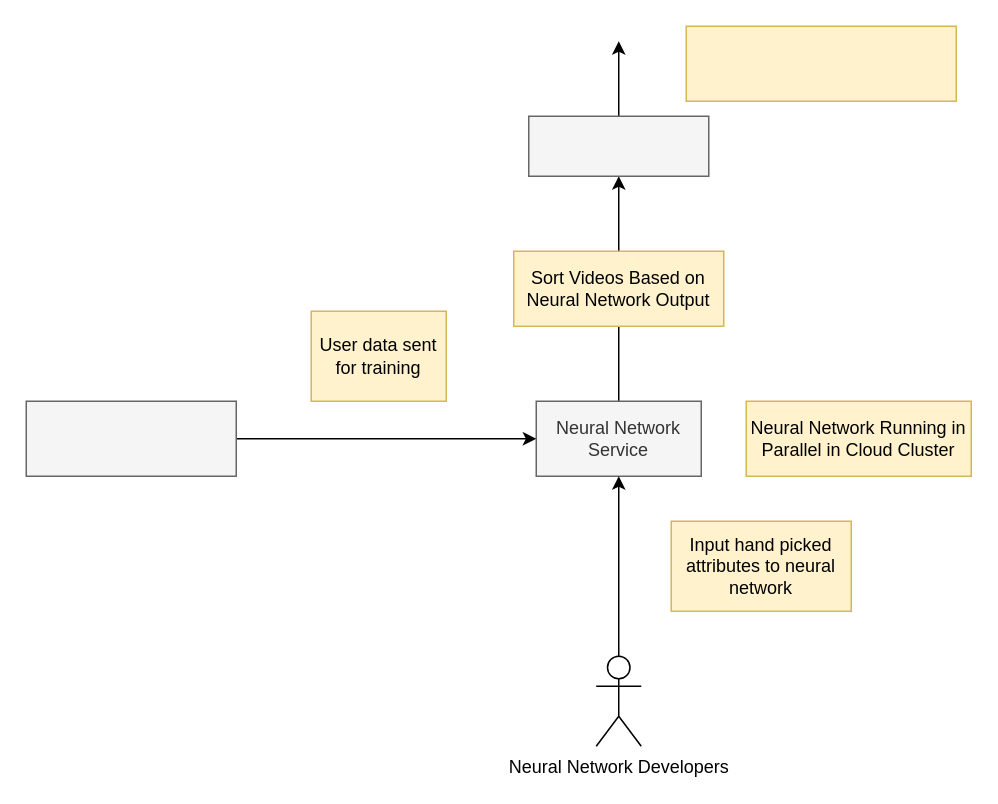
This 998x804 diagram has some shape labels left out. The centre of each missing label's shape, as x and y in pixels:
Company Data Centers: point (130, 438)
Serve Algorithmically Boosted Content to Customers: point (820, 63)
Server: point (618, 145)
